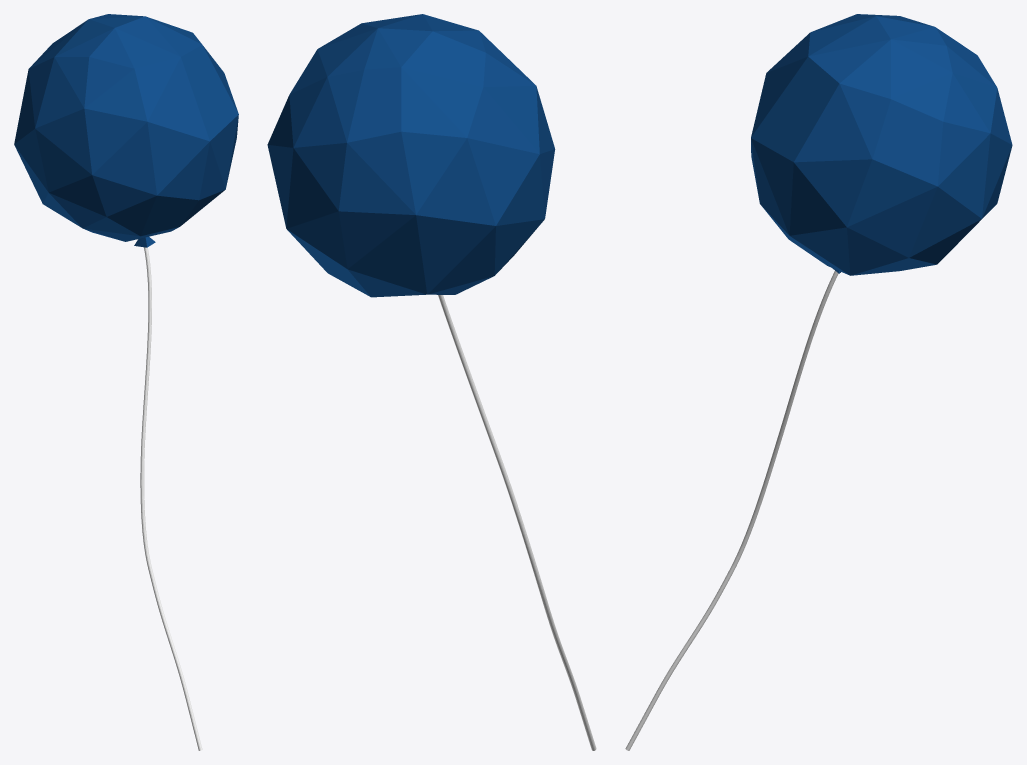
Rendered from BallonBlue.fbx.
The picture shows the model from 3 angles, left to right: view 1: azimuth 30°, elevation 25°; view 2: azimuth 150°, elevation 25°; view 3: azimuth 270°, elevation 25°; orthographic projection. The views are drawn at different scales.
Visible parts, largest first — view 1: BallonBlue; view 2: BallonBlue; view 3: BallonBlue.
Part boxes in pixels (x1=…): BallonBlue: x1=14, y1=14, x2=238, y2=750; BallonBlue: x1=267, y1=14, x2=596, y2=750; BallonBlue: x1=625, y1=14, x2=1012, y2=750.
Size of the model in its own units: 140 by 447 by 210.
